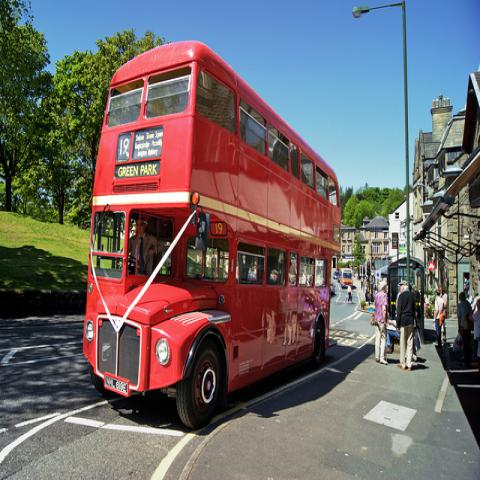bus: (80, 39, 342, 428), (340, 268, 352, 288)
car: (424, 294, 432, 315), (332, 271, 340, 280), (331, 282, 336, 294), (339, 268, 341, 281)
truck: (340, 267, 352, 288)
